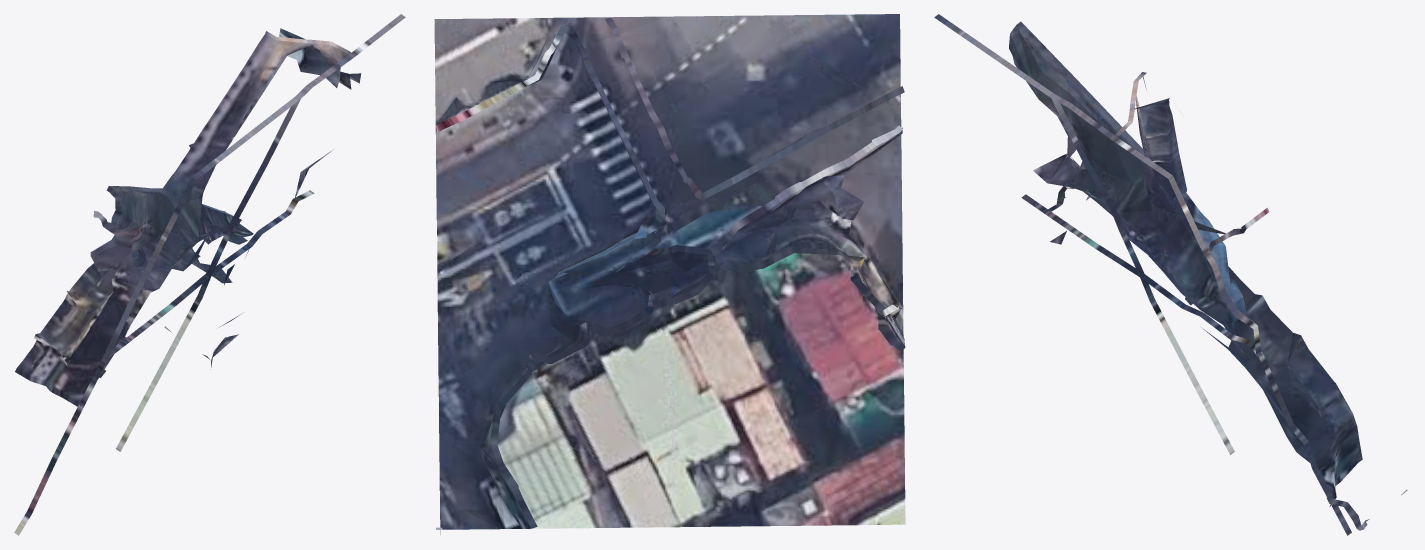
3 renders of one model, left to right at view 1: azimuth 30°, elevation 25°; view 2: azimuth 150°, elevation 25°; view 3: azimuth 270°, elevation 25°, orthographic. The views are drawn at different scales.
Bounding box in the file's own units: 38.12 × 37.22 × 36.86.
Materials: 1 (1 with a texture image).
